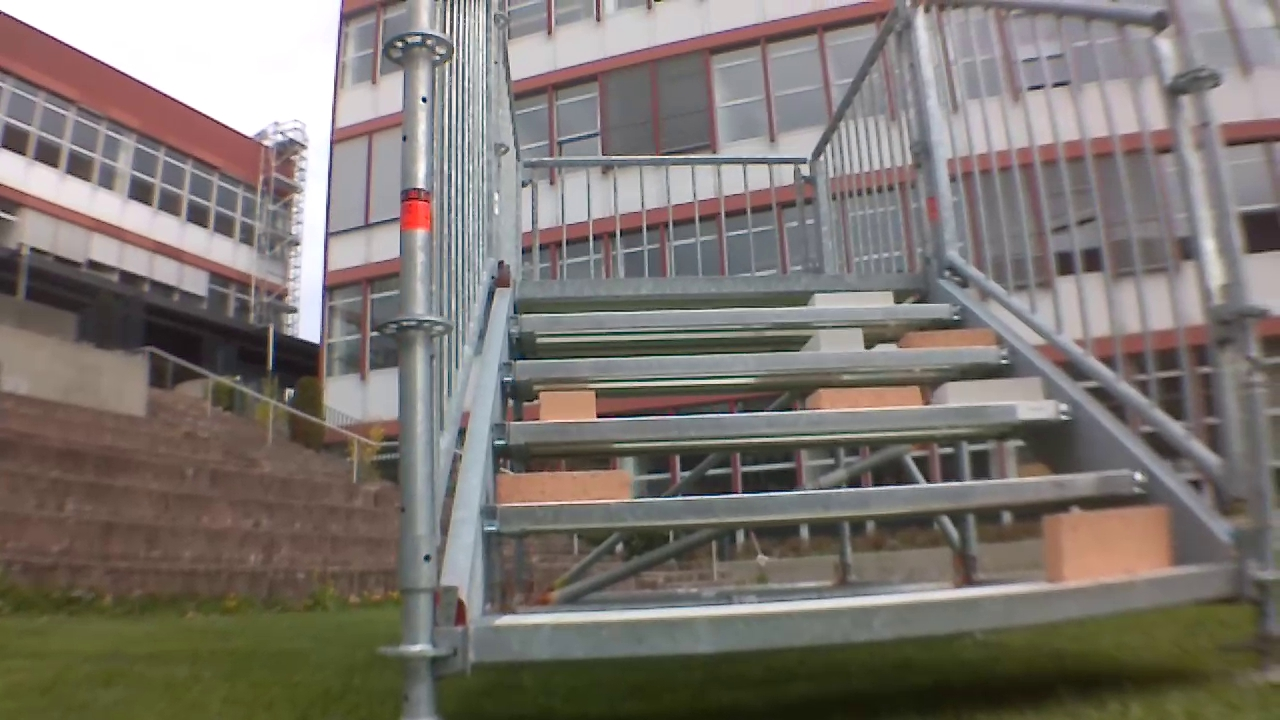brick: (1030, 507, 1169, 581), (500, 472, 629, 502), (935, 376, 1043, 407), (807, 385, 920, 411), (807, 290, 894, 314), (906, 328, 999, 348), (807, 323, 860, 353)
edge: (469, 554, 1250, 666), (476, 468, 1159, 543), (492, 399, 1076, 448), (506, 303, 971, 340), (490, 349, 1017, 379), (516, 271, 932, 298)
stairs: (424, 0, 1258, 713)
steps: (454, 266, 1241, 687)
